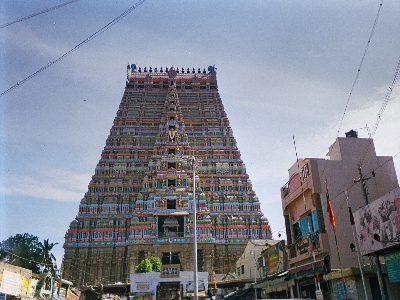gopura: (77, 60, 280, 246)
